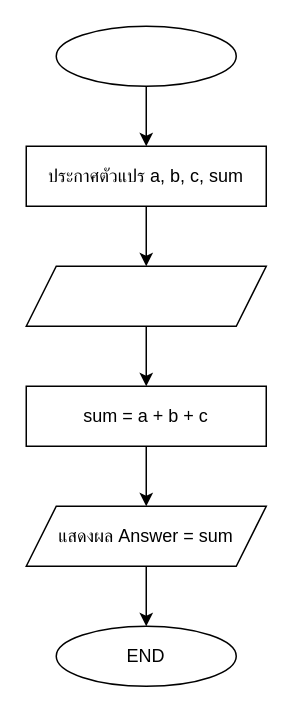
The diagram is 293 pixels wide and 714 high, and some of its shapes have lost their labels. The shapes that lost their labels are listed below. From the top down, each one's centre as x and y in pixels, then its label:
pixel 145 55: Start
pixel 145 295: รับค่า a, b, c จากผู้ใช้
